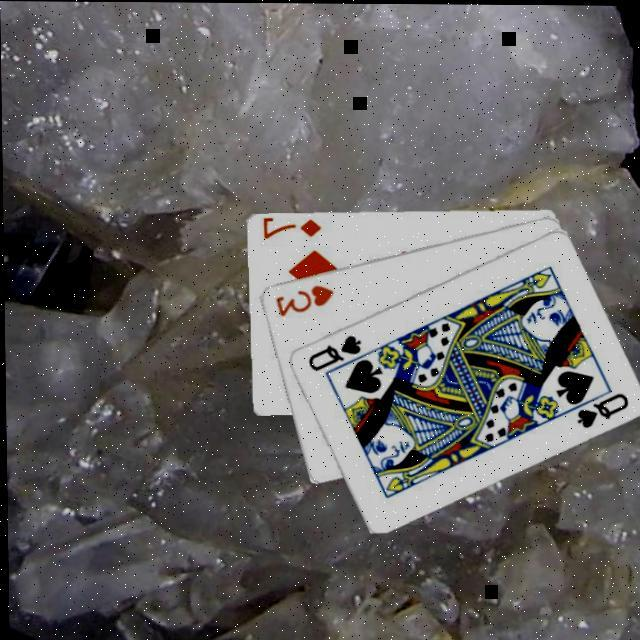3H: (270, 279, 334, 317)
7D: (258, 213, 322, 240)
QS: (303, 329, 362, 371), (570, 387, 628, 428)
